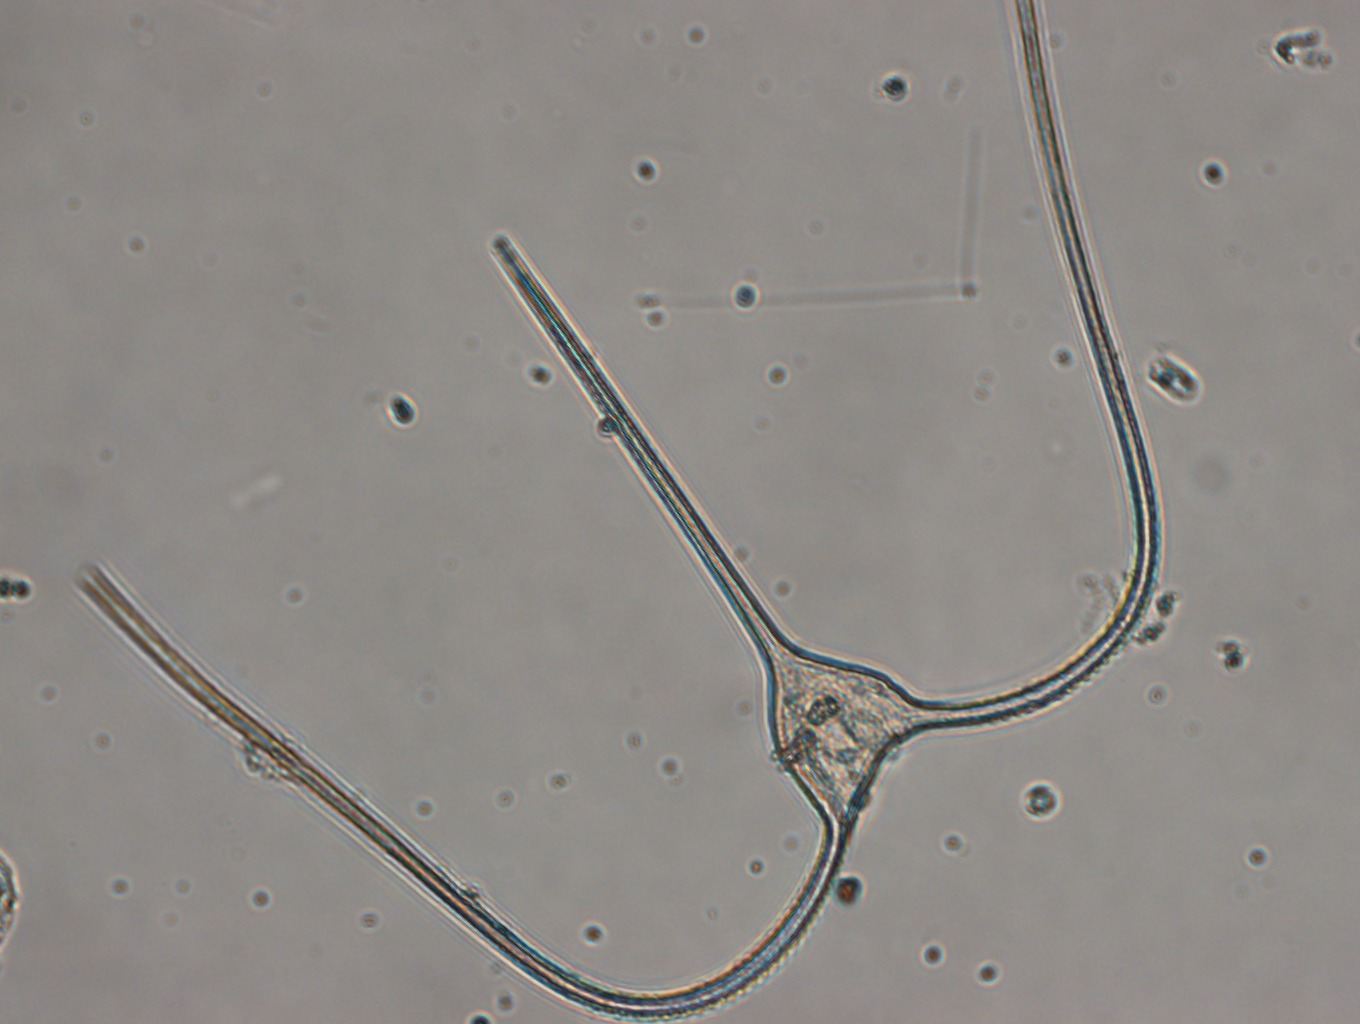ceratium trichoceros: (69, 1, 1163, 1014)
